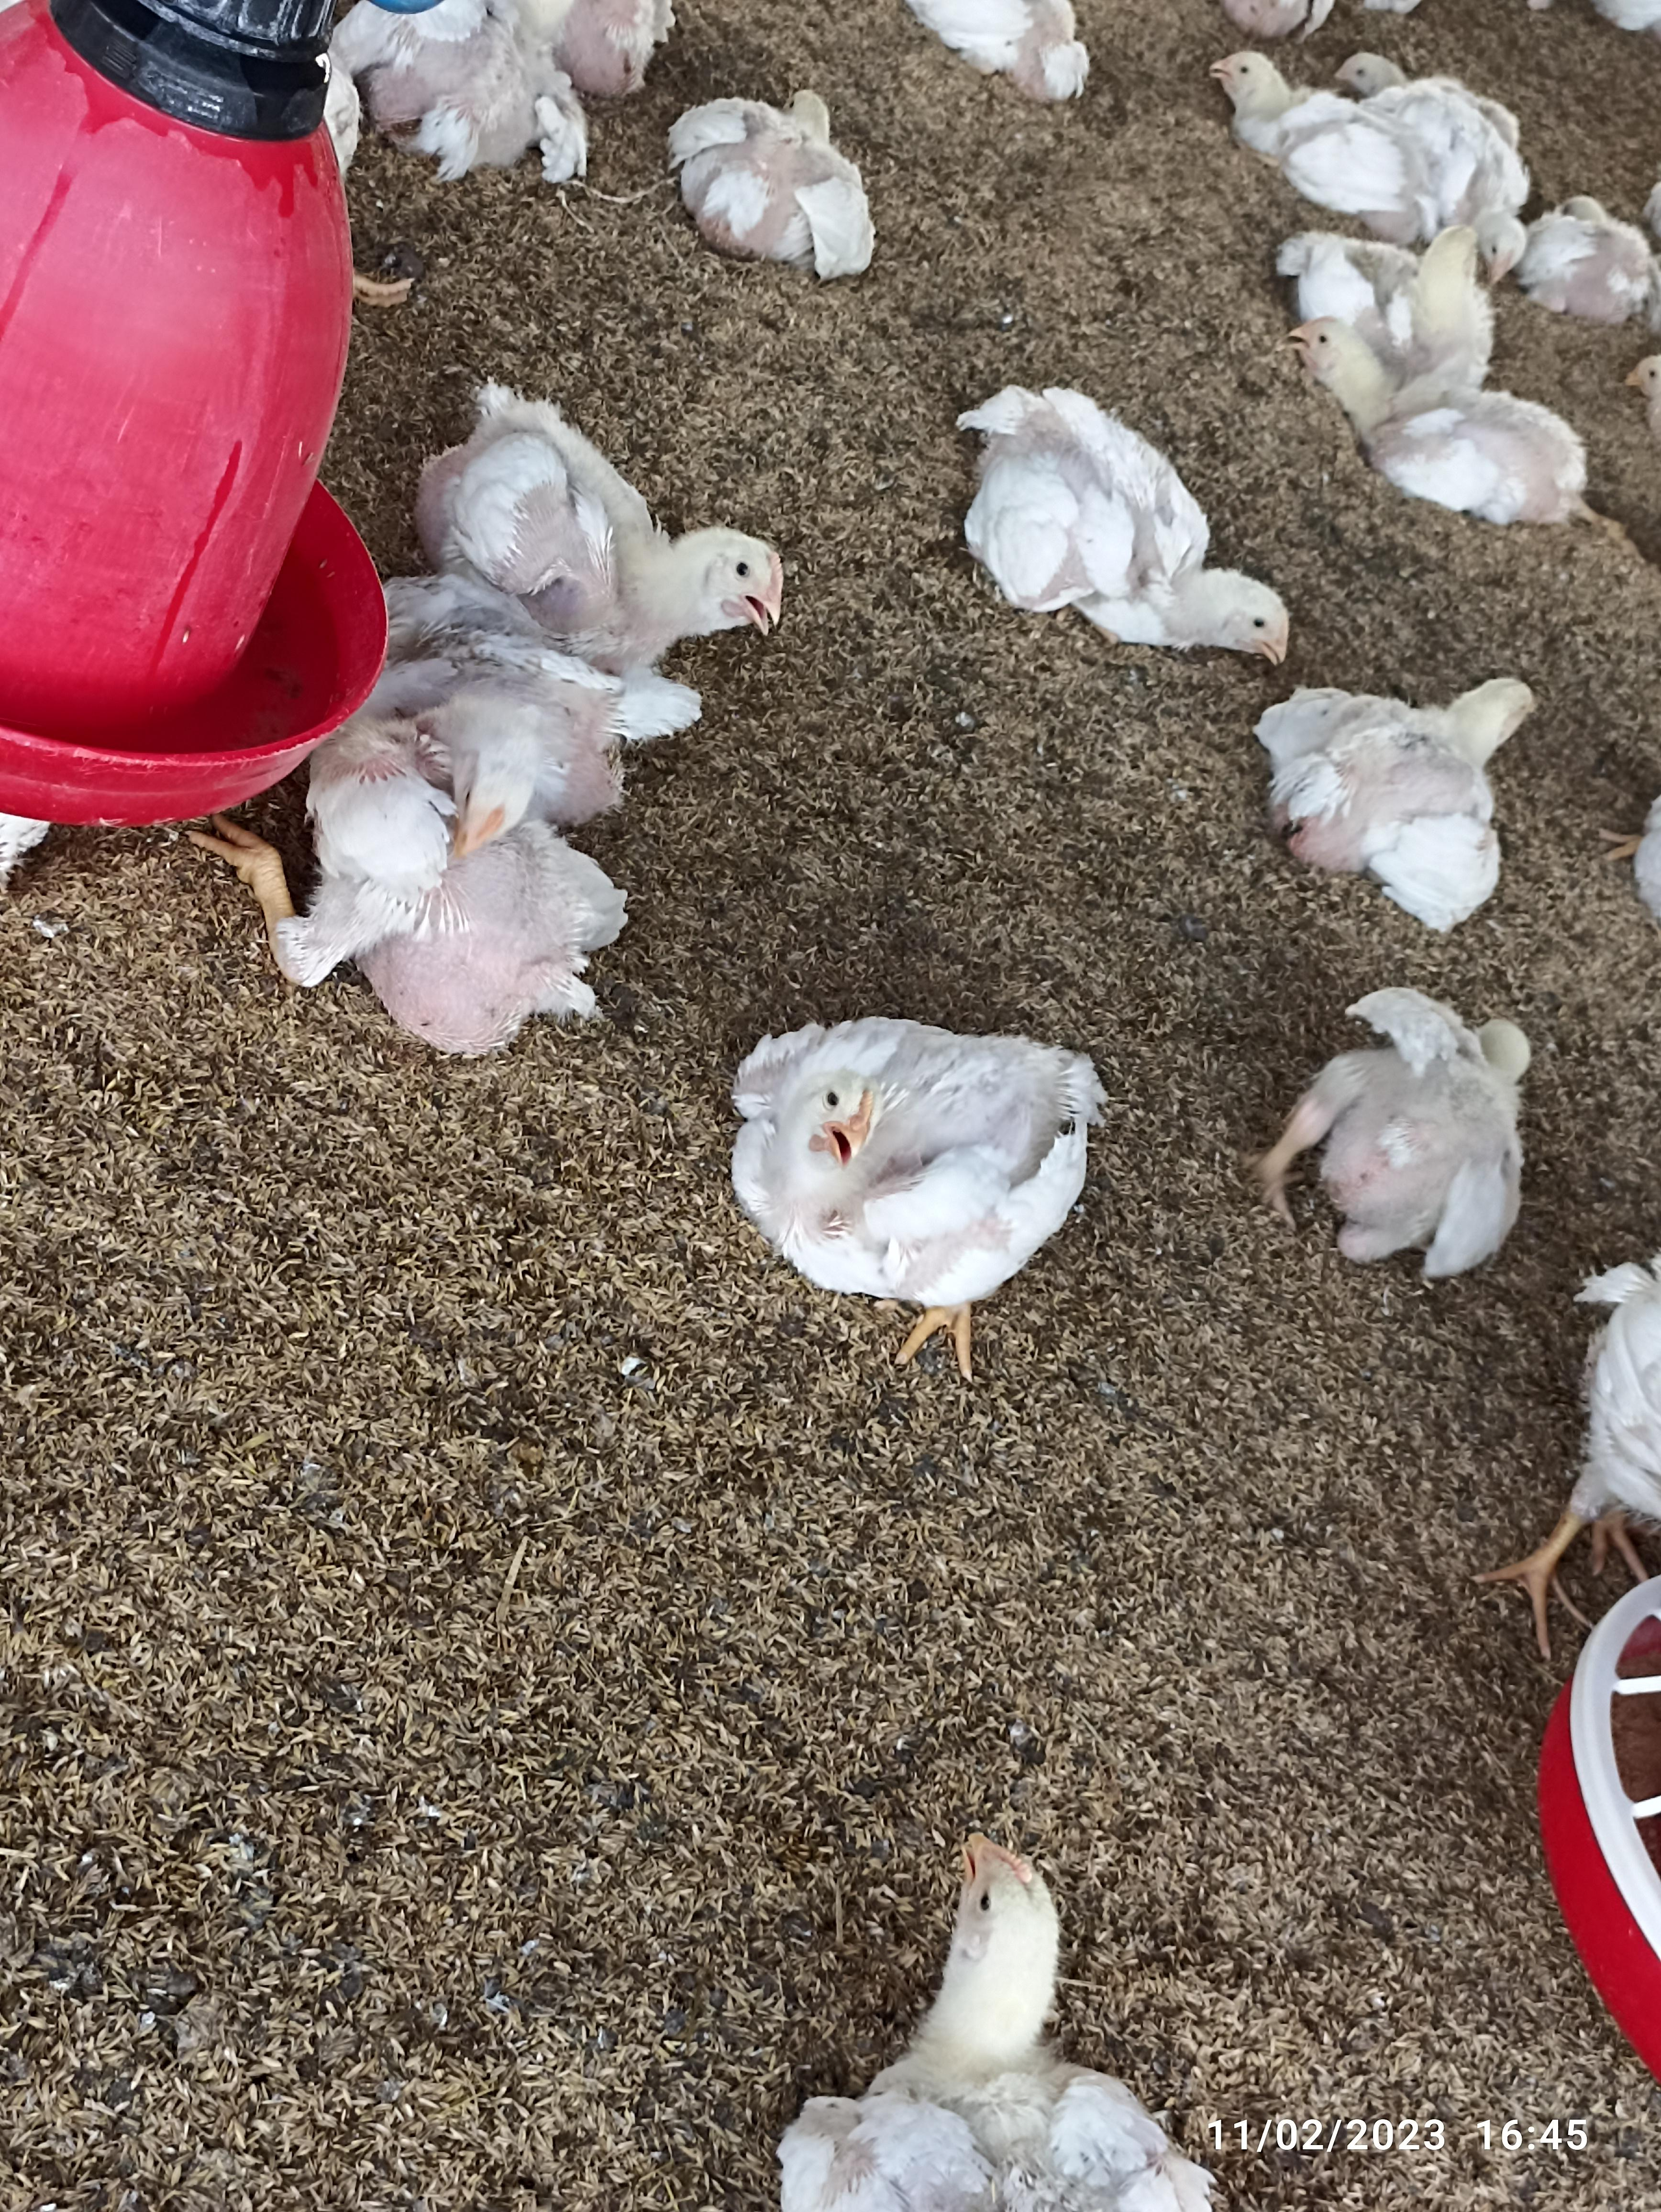Pollos: (804, 1835, 1209, 2212), (956, 368, 1300, 661), (733, 1022, 1108, 1282), (323, 698, 602, 1045), (450, 384, 789, 651), (1281, 991, 1549, 1268), (1263, 668, 1549, 907), (1300, 297, 1595, 527), (1209, 44, 1436, 206), (677, 91, 865, 256)
